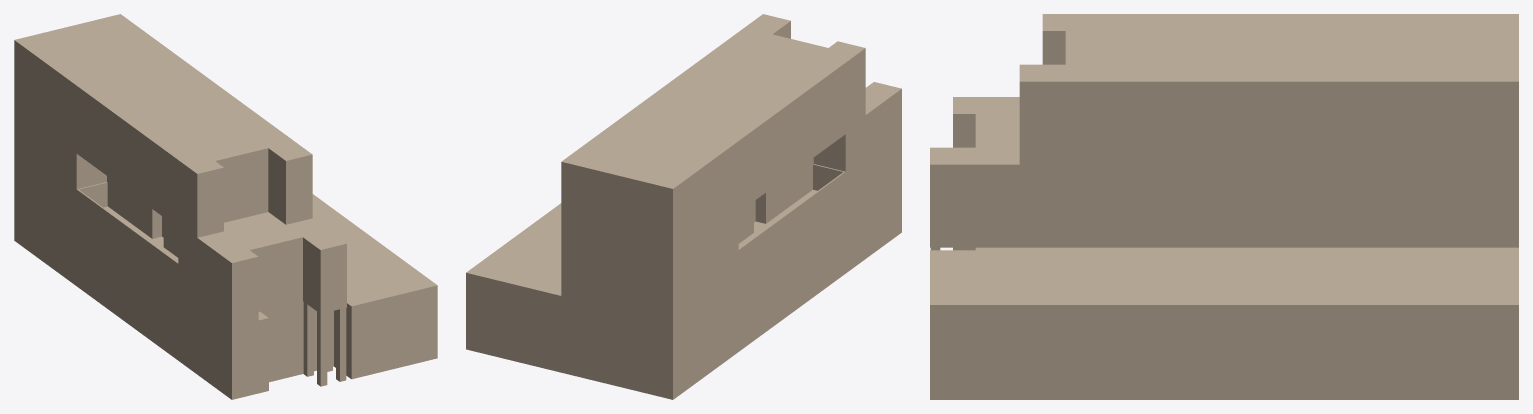
Rendered from massing.glb.
3 renders of one model, left to right at view 1: azimuth 30°, elevation 25°; view 2: azimuth 150°, elevation 25°; view 3: azimuth 270°, elevation 25°, orthographic. The views are drawn at different scales.
Visible parts, largest first — view 1: building/exterior; view 2: building/exterior; view 3: building/exterior.
Part boxes in pixels (x1=…): building/exterior: x1=14, y1=14, x2=437, y2=399; building/exterior: x1=466, y1=14, x2=901, y2=399; building/exterior: x1=930, y1=14, x2=1518, y2=399.
Size of the model in its own units: 9.04 by 8.8 by 18.
